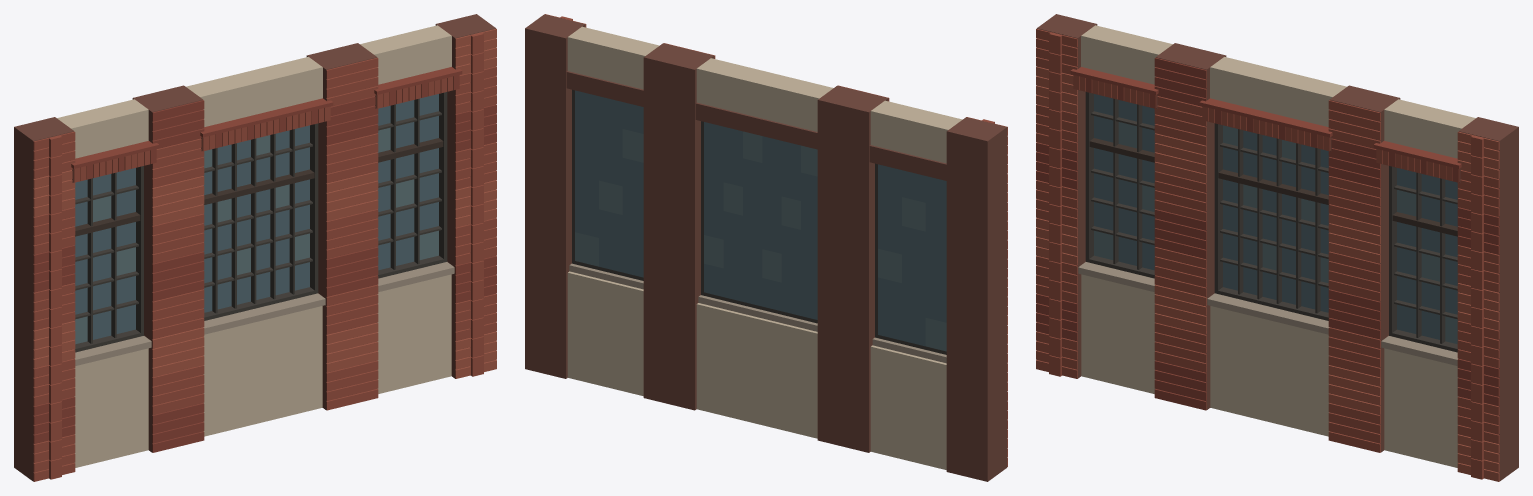
Rendered from hongkou-ruikang-apartments-west-steel-windows-lod.glb.
3 views of the same model, side by side, from view 1: azimuth 30°, elevation 25°; view 2: azimuth 150°, elevation 25°; view 3: azimuth 330°, elevation 25° (orthographic).
Parts seen in each view (by area): view 1: 瑞康公寓四川北路西立面三联钢窗与砖柱; view 2: 瑞康公寓四川北路西立面三联钢窗与砖柱; view 3: 瑞康公寓四川北路西立面三联钢窗与砖柱.
Part boxes in pixels (left/top/right/bottom): 瑞康公寓四川北路西立面三联钢窗与砖柱: left=14, top=14, right=496, bottom=481; 瑞康公寓四川北路西立面三联钢窗与砖柱: left=525, top=14, right=1007, bottom=481; 瑞康公寓四川北路西立面三联钢窗与砖柱: left=1036, top=14, right=1518, bottom=481.
Size of the model in its own units: 4.52 by 3.18 by 0.386.
